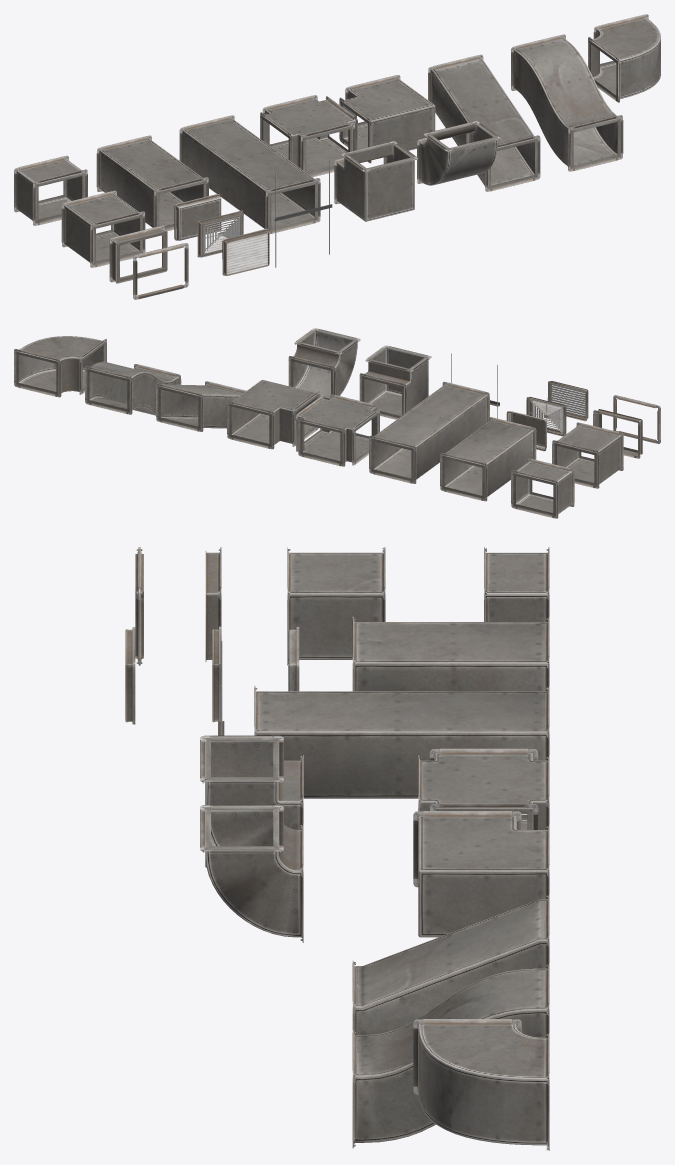
File: modular_airduct_rectangular_01.glb
The picture shows the model from 3 angles, top to bottom: view 1: azimuth 30°, elevation 25°; view 2: azimuth 150°, elevation 25°; view 3: azimuth 270°, elevation 25°; orthographic projection. The views are drawn at different scales.
Visible parts, largest first — view 1: modular_airduct_rectangular_01_tripple_01, modular_airduct_rectangular_01_transition_double_02, modular_airduct_rectangular_01_transition_double_01, modular_airduct_rectangular_01_double_01, modular_airduct_rectangular_01_splitter_01, modular_airduct_rectangular_01_corner_01, modular_airduct_rectangular_01_corner_02, modular_airduct_rectangular_01_bend_02, modular_airduct_rectangular_01_single_01, modular_airduct_rectangular_01_bend_01, modular_airduct_rectangular_01_half_01, modular_airduct_rectangular_01_vent_01 (+4 smaller); view 2: modular_airduct_rectangular_01_tripple_01, modular_airduct_rectangular_01_double_01, modular_airduct_rectangular_01_splitter_01, modular_airduct_rectangular_01_corner_02, modular_airduct_rectangular_01_bend_02, modular_airduct_rectangular_01_corner_01, modular_airduct_rectangular_01_bend_01, modular_airduct_rectangular_01_transition_double_02, modular_airduct_rectangular_01_single_01, modular_airduct_rectangular_01_transition_double_01, modular_airduct_rectangular_01_half_01, modular_airduct_rectangular_01_vent_01 (+4 smaller); view 3: modular_airduct_rectangular_01_tripple_01, modular_airduct_rectangular_01_bend_02, modular_airduct_rectangular_01_corner_02, modular_airduct_rectangular_01_double_01, modular_airduct_rectangular_01_transition_double_01, modular_airduct_rectangular_01_transition_double_02, modular_airduct_rectangular_01_bend_01, modular_airduct_rectangular_01_single_01, modular_airduct_rectangular_01_splitter_01, modular_airduct_rectangular_01_corner_01, modular_airduct_rectangular_01_half_01, modular_airduct_rectangular_01_connector_01 (+3 smaller).
Boxes of the visible parts, x1,y1,x2,y2 form: modular_airduct_rectangular_01_tripple_01: [179, 115, 320, 233]; modular_airduct_rectangular_01_transition_double_02: [511, 34, 623, 171]; modular_airduct_rectangular_01_transition_double_01: [428, 54, 540, 191]; modular_airduct_rectangular_01_double_01: [96, 135, 208, 231]; modular_airduct_rectangular_01_splitter_01: [260, 95, 357, 176]; modular_airduct_rectangular_01_corner_01: [334, 141, 417, 221]; modular_airduct_rectangular_01_corner_02: [339, 75, 435, 163]; modular_airduct_rectangular_01_bend_02: [588, 14, 660, 102]; modular_airduct_rectangular_01_single_01: [61, 190, 145, 267]; modular_airduct_rectangular_01_bend_01: [417, 121, 500, 185]; modular_airduct_rectangular_01_half_01: [14, 155, 87, 225]; modular_airduct_rectangular_01_vent_01: [222, 229, 269, 275]; modular_airduct_rectangular_01_tripple_01: [369, 381, 489, 483]; modular_airduct_rectangular_01_double_01: [440, 417, 536, 501]; modular_airduct_rectangular_01_splitter_01: [296, 394, 379, 466]; modular_airduct_rectangular_01_corner_02: [227, 380, 319, 449]; modular_airduct_rectangular_01_bend_02: [14, 336, 106, 397]; modular_airduct_rectangular_01_corner_01: [359, 345, 431, 419]; modular_airduct_rectangular_01_bend_01: [288, 328, 360, 399]; modular_airduct_rectangular_01_transition_double_02: [85, 361, 181, 415]; modular_airduct_rectangular_01_single_01: [552, 422, 623, 488]; modular_airduct_rectangular_01_transition_double_01: [156, 381, 246, 431]; modular_airduct_rectangular_01_half_01: [511, 458, 574, 518]; modular_airduct_rectangular_01_vent_01: [547, 381, 588, 421]; modular_airduct_rectangular_01_tripple_01: [254, 686, 549, 798]; modular_airduct_rectangular_01_bend_02: [413, 1019, 549, 1150]; modular_airduct_rectangular_01_corner_02: [413, 811, 549, 937]; modular_airduct_rectangular_01_double_01: [352, 616, 549, 691]; modular_airduct_rectangular_01_transition_double_01: [352, 894, 549, 1035]; modular_airduct_rectangular_01_transition_double_02: [352, 963, 549, 1148]; modular_airduct_rectangular_01_bend_01: [200, 805, 303, 942]; modular_airduct_rectangular_01_single_01: [287, 547, 385, 665]; modular_airduct_rectangular_01_splitter_01: [418, 748, 549, 829]; modular_airduct_rectangular_01_corner_01: [200, 735, 303, 867]; modular_airduct_rectangular_01_half_01: [484, 547, 549, 621]; modular_airduct_rectangular_01_connector_01: [205, 547, 221, 661].
Size of the model in its own units: 7.66 by 1.26 by 2.59.
2 materials, 2 textured.
